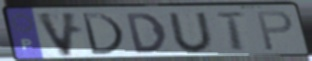D: (79, 12, 127, 57), (123, 11, 170, 55)
P: (255, 9, 295, 53)
T: (213, 11, 249, 53)
U: (166, 11, 217, 54)
V: (34, 11, 80, 59)
